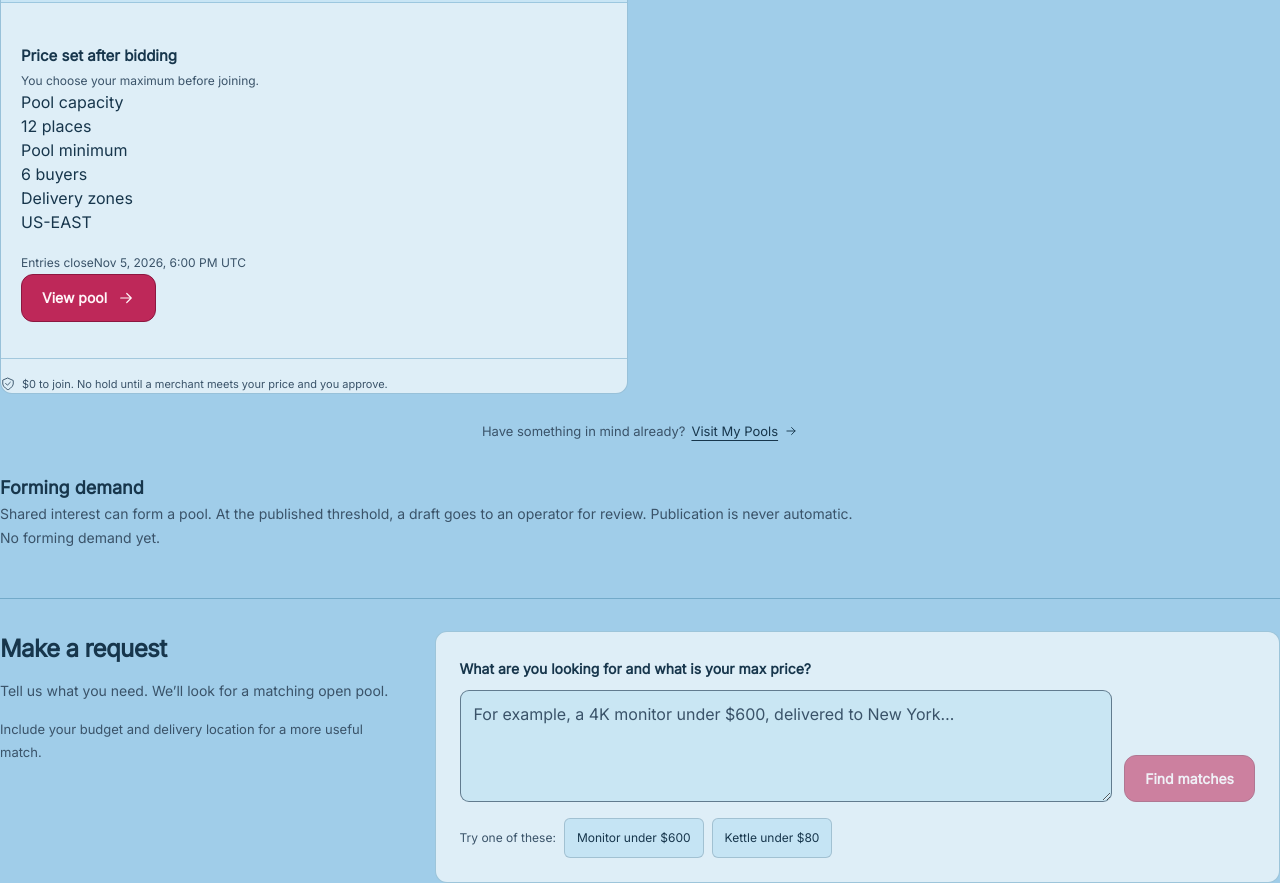
Test: Discover and Join › says plainly when no open pool matches, and never invents one
(page scrolled)
Step 1. Type "a submarine" into the text box labelled "What are you looking for and what is your max price?" → [786, 746], box [460, 690, 1112, 802]
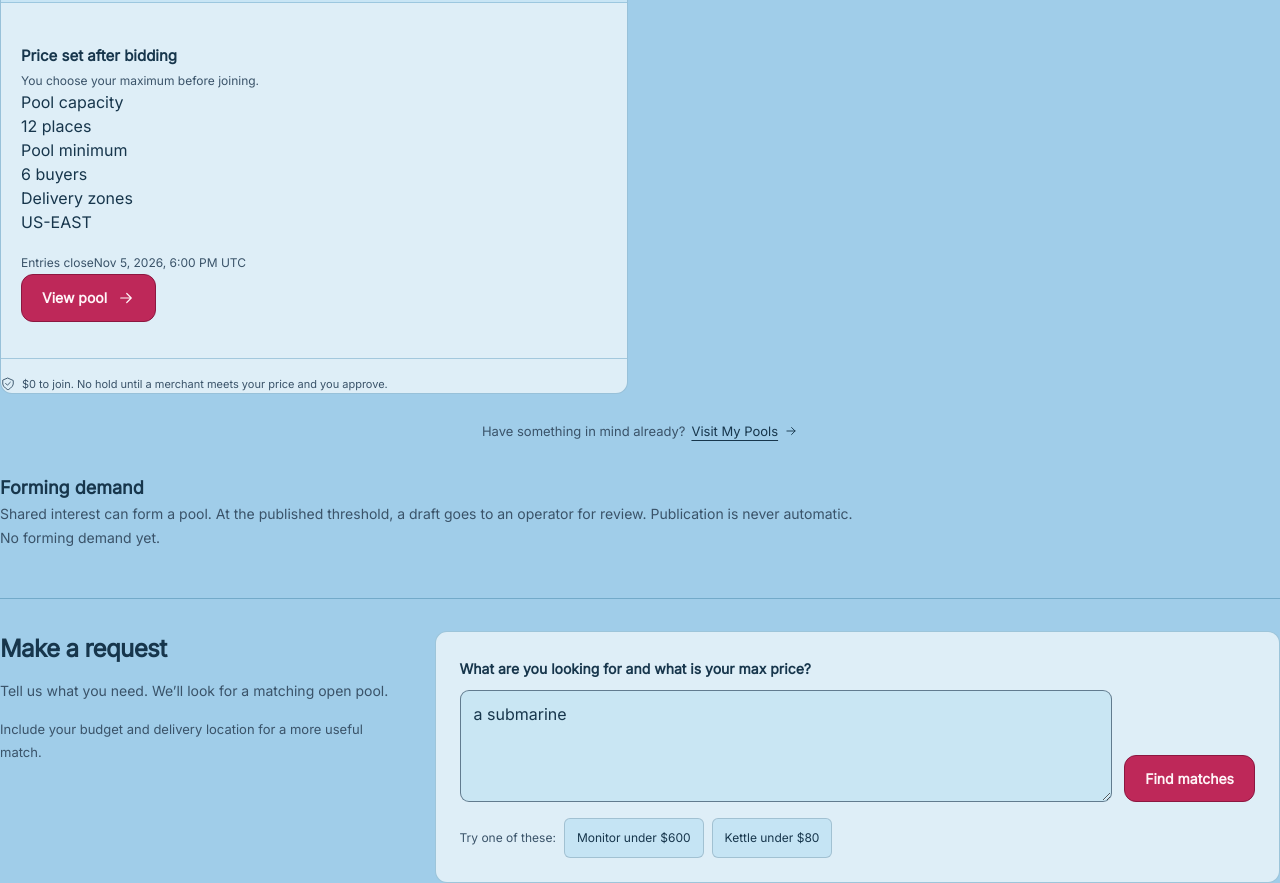
Step 2. Click the button "Find matches" → [1190, 778], box [1124, 755, 1255, 802]
(page scrolled)
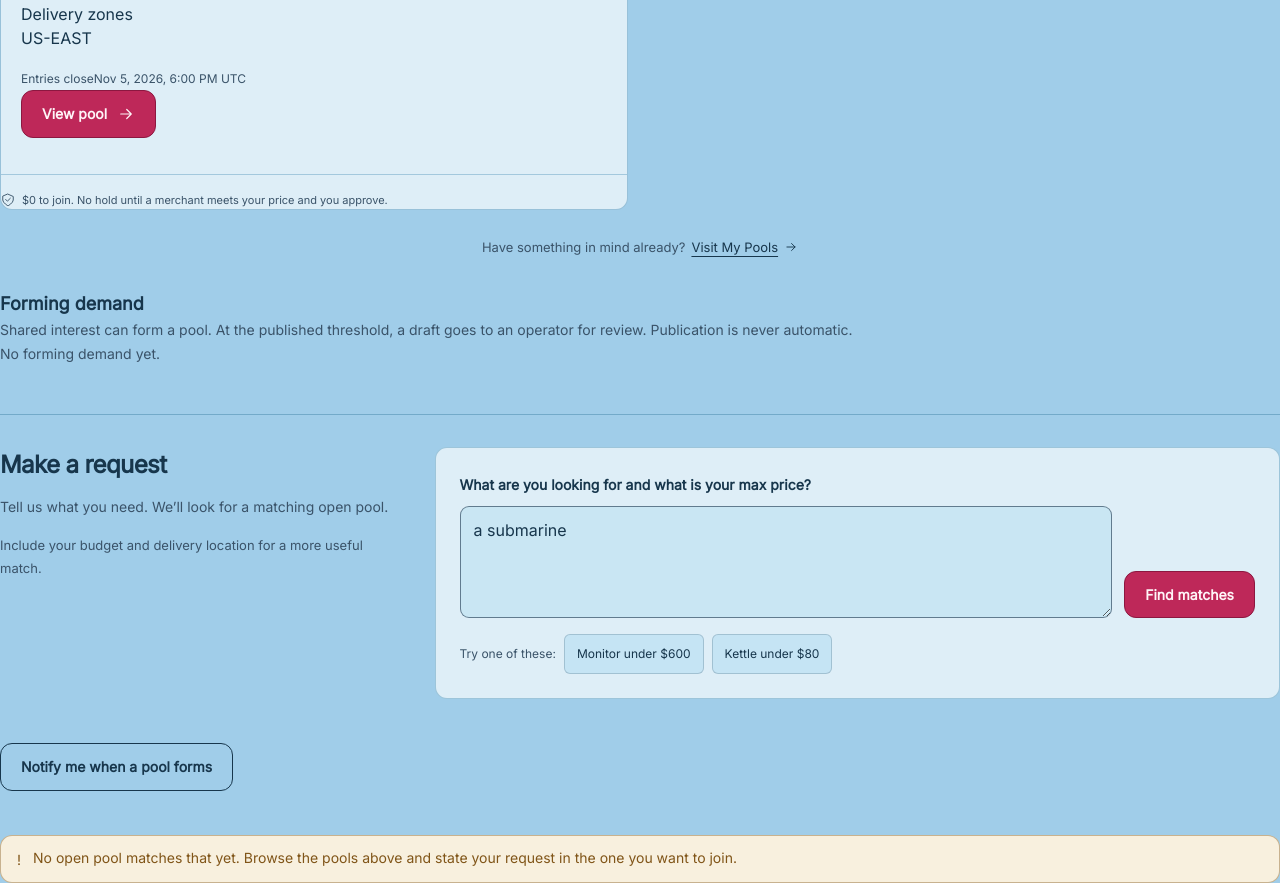
Check: the text "No open pool matches that yet" is shown, box [33, 849, 737, 866]
